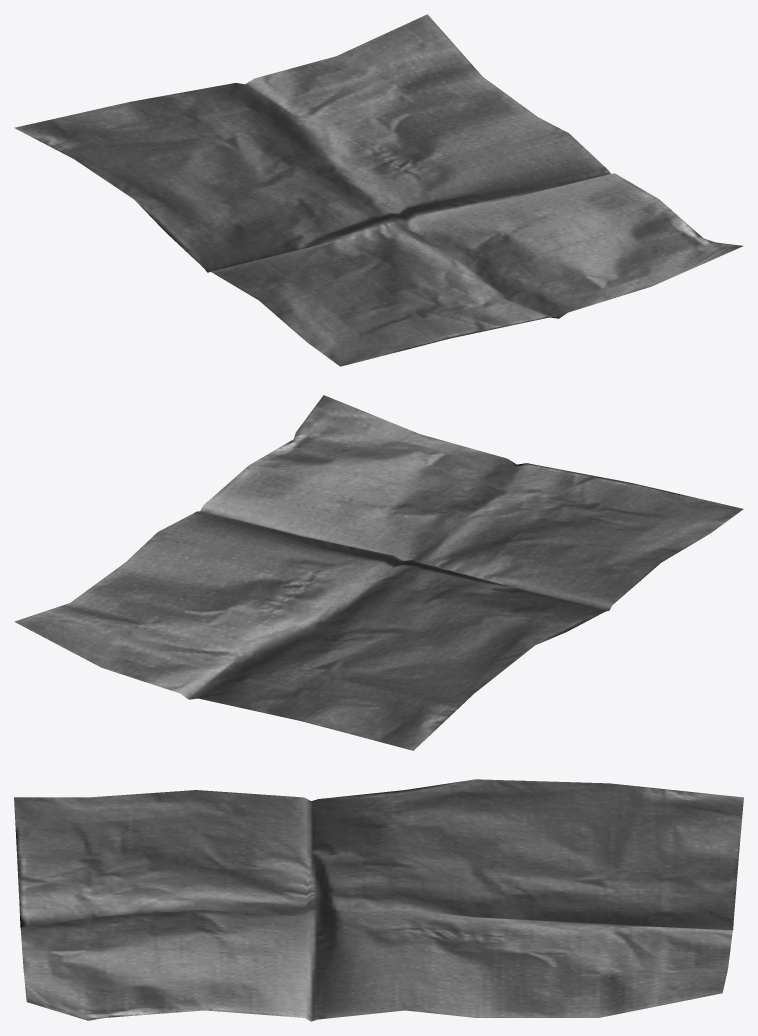
File: napkin_4.fbx
3 renders of one model, top to bottom at view 1: azimuth 30°, elevation 25°; view 2: azimuth 150°, elevation 25°; view 3: azimuth 270°, elevation 25°, orthographic. The views are drawn at different scales.
Visible parts, largest first — view 1: napkin_004; view 2: napkin_004; view 3: napkin_004.
Part boxes in pixels (x1,y1,x2,y2): napkin_004: [14, 14, 743, 366]; napkin_004: [14, 395, 743, 750]; napkin_004: [14, 779, 743, 1021].
Bounding box in the file's own units: 20.84 × 1.47 × 28.78.
